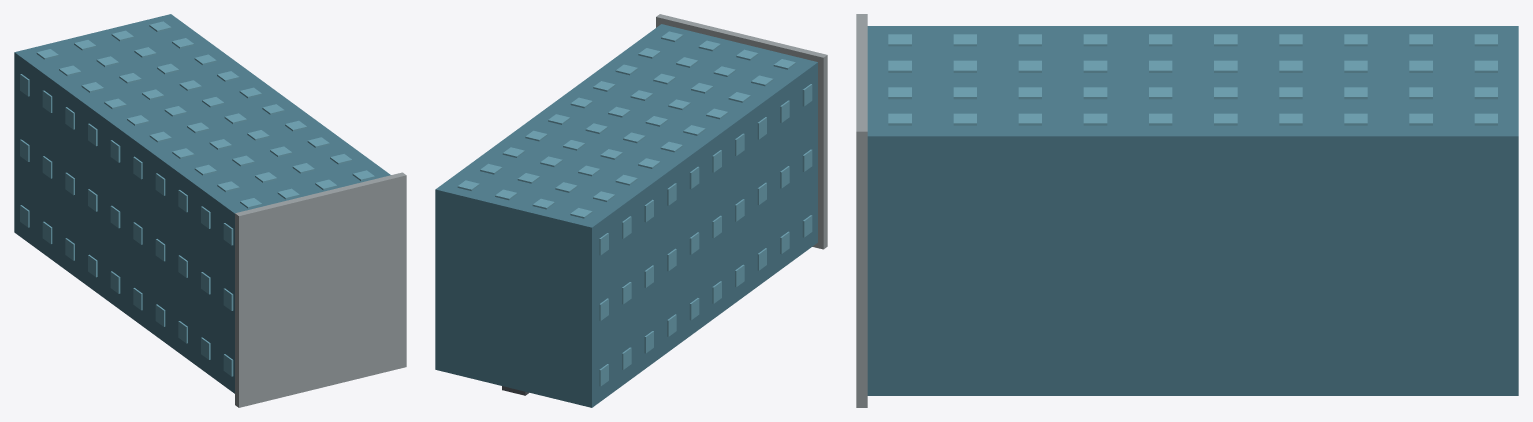
File: office_midrise.glb
3 views of the same model, side by side, from view 1: azimuth 30°, elevation 25°; view 2: azimuth 150°, elevation 25°; view 3: azimuth 270°, elevation 25° (orthographic). The views are drawn at different scales.
Visible parts, largest first — view 1: g0, g1; view 2: g0, g1; view 3: g0, g1.
Part boxes in pixels (<box>): g0: <box>14,14,390,393</box>; g1: <box>235,172,406,407</box>; g0: <box>435,24,817,407</box>; g1: <box>656,14,827,249</box>; g0: <box>867,26,1518,395</box>; g1: <box>856,14,867,407</box>.
Bounding box in the file's own units: 10.7 × 11.7 × 25.44.
